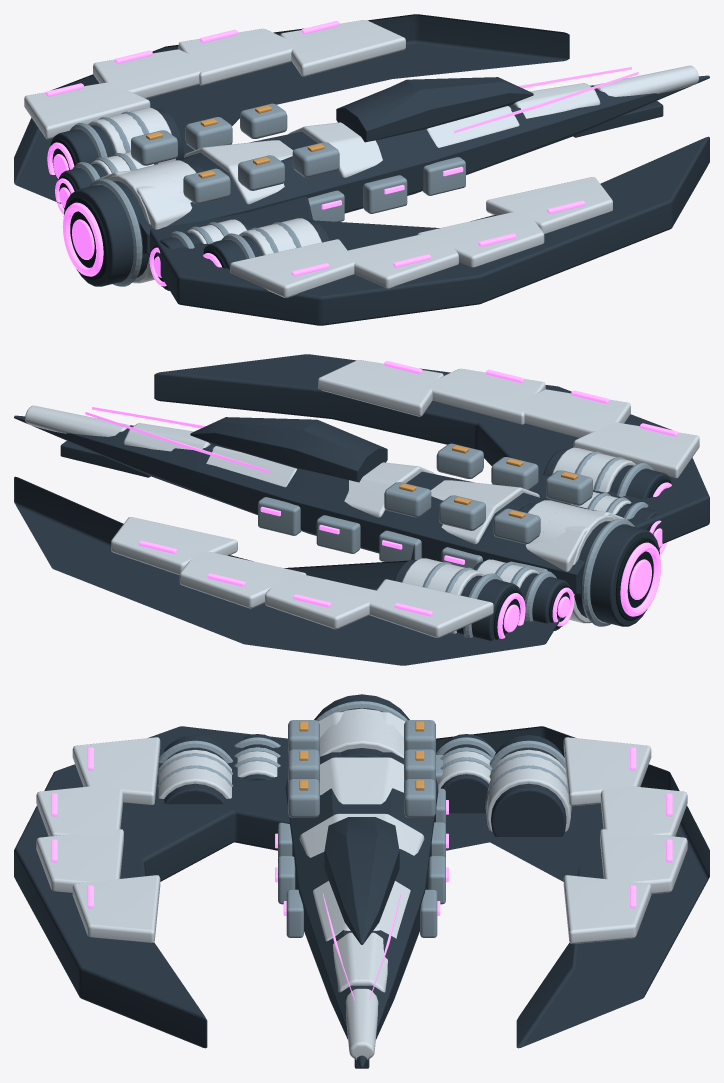
The model's file is ship-13.glb.
The picture shows the model from 3 angles, top to bottom: view 1: azimuth 30°, elevation 25°; view 2: azimuth 150°, elevation 25°; view 3: azimuth 270°, elevation 25°; orthographic projection. The views are drawn at different scales.
Visible parts, largest first — view 1: Graphite frame, Ceramic titanium, Machined silver, Ion violet, Carbon insets, Copper contacts; view 2: Graphite frame, Ceramic titanium, Machined silver, Ion violet, Carbon insets, Copper contacts; view 3: Graphite frame, Ceramic titanium, Machined silver, Ion violet, Copper contacts.
Part boxes in pixels (left/top/right/bottom): Graphite frame: left=14, top=14, right=709, bottom=325; Ceramic titanium: left=24, top=20, right=698, bottom=297; Machined silver: left=70, top=103, right=465, bottom=286; Ion violet: left=45, top=21, right=638, bottom=286; Carbon insets: left=50, top=138, right=226, bottom=288; Copper contacts: left=146, top=105, right=324, bottom=178; Graphite frame: left=14, top=354, right=709, bottom=665; Ceramic titanium: left=25, top=360, right=699, bottom=637; Machined silver: left=258, top=443, right=653, bottom=637; Ion violet: left=85, top=361, right=678, bottom=638; Carbon insets: left=493, top=478, right=671, bottom=639; Copper contacts: left=399, top=445, right=577, bottom=518; Graphite frame: left=14, top=694, right=709, bottom=1068; Ceramic titanium: left=36, top=708, right=687, bottom=1059; Machined silver: left=157, top=701, right=571, bottom=937; Ion violet: left=51, top=747, right=672, bottom=1000; Copper contacts: left=299, top=721, right=424, bottom=790.
Size of the model in its own units: 6 by 1.14 by 5.2.
